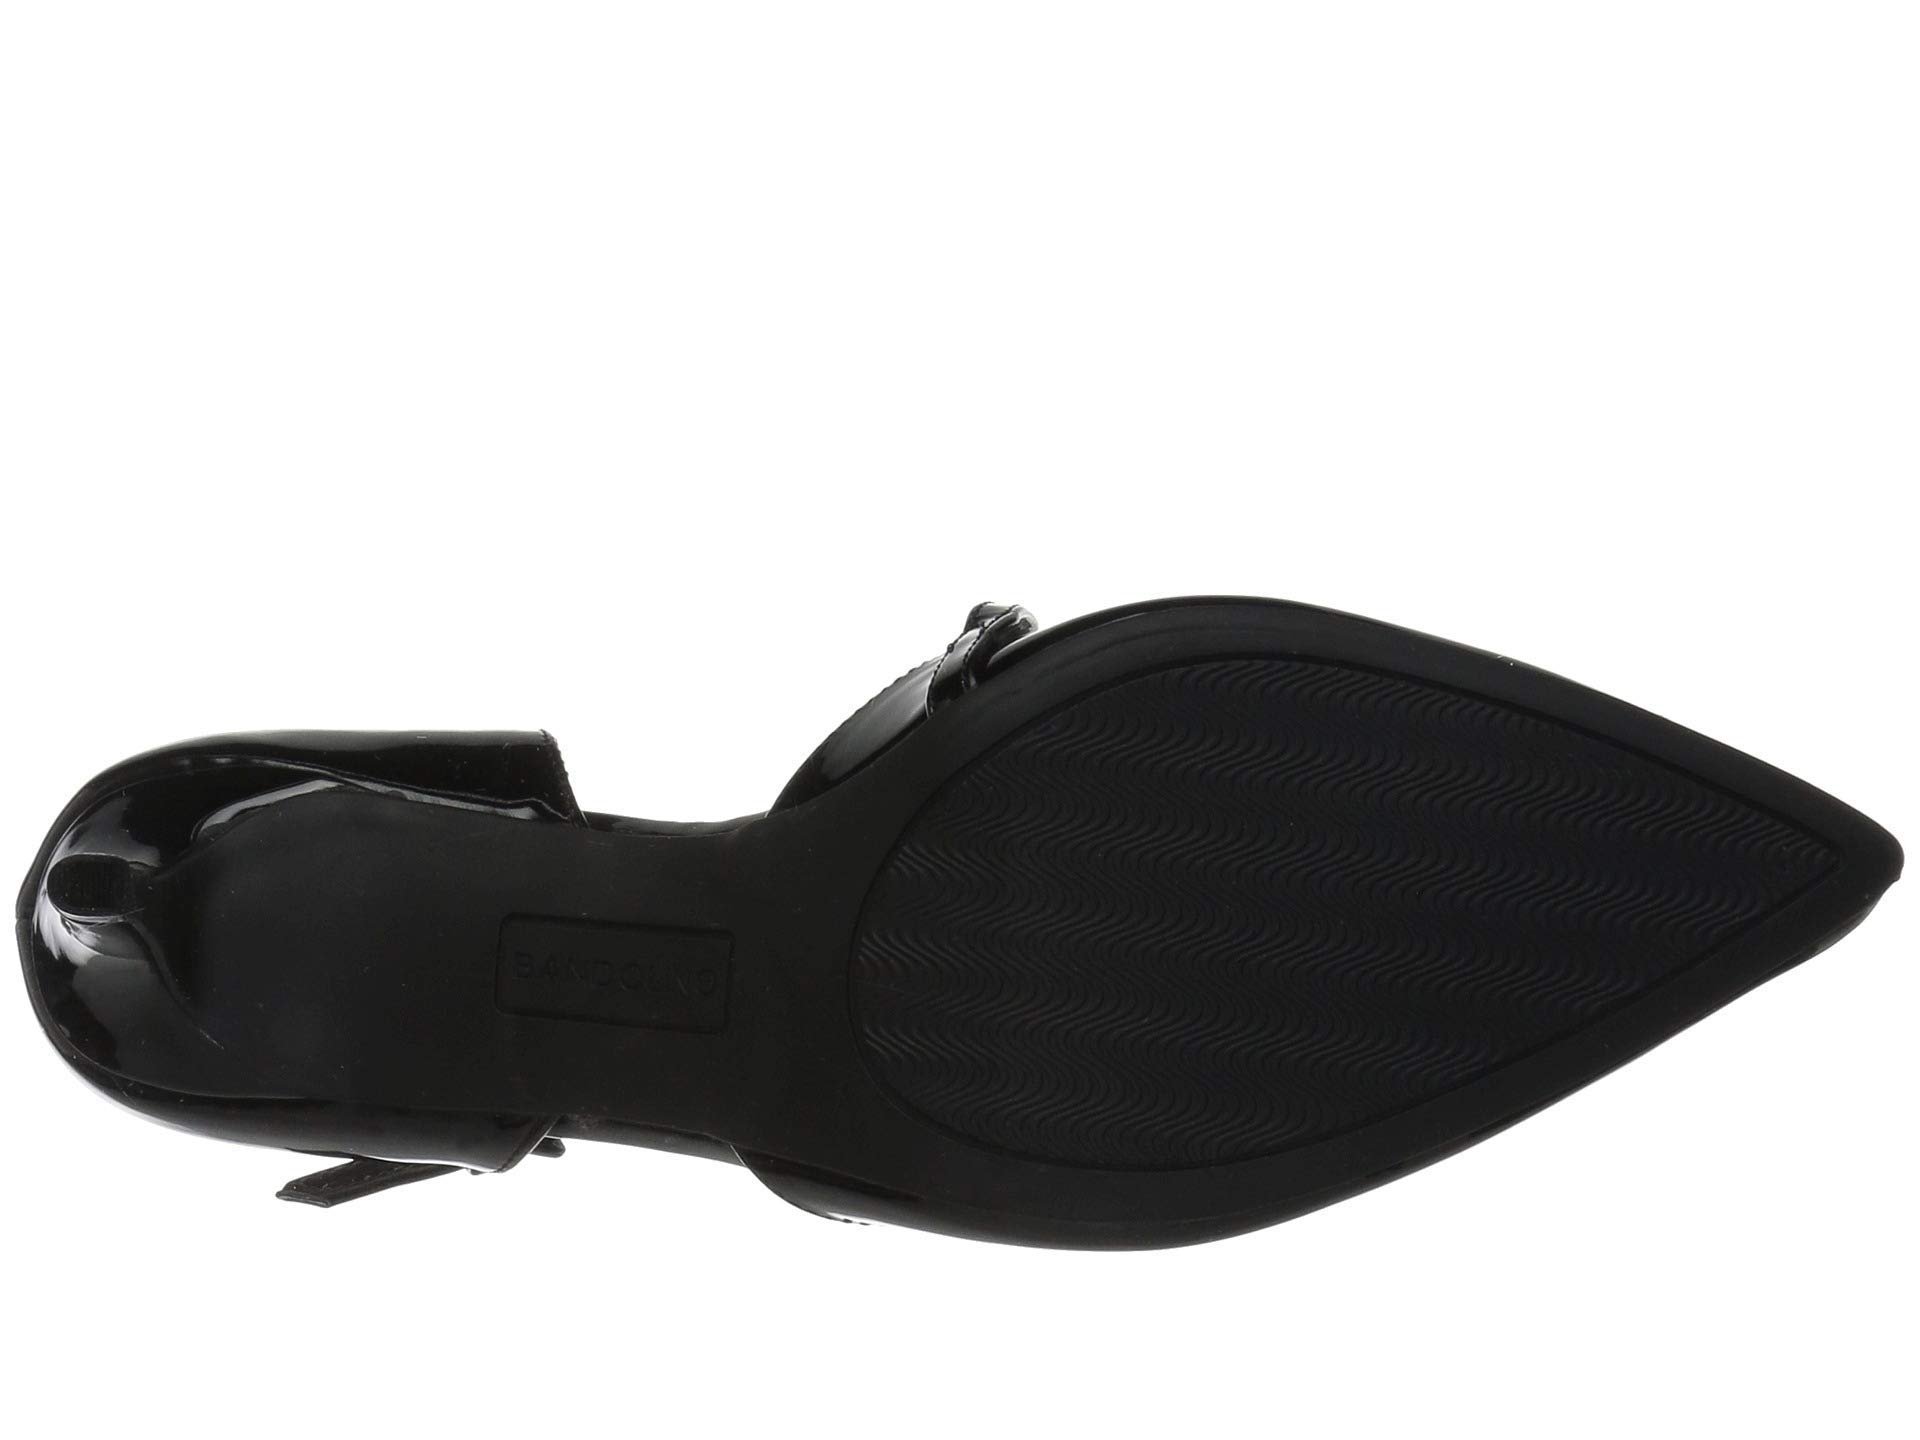chevron: (980, 675, 1577, 1144)
exclude: (8, 883, 886, 1257)
